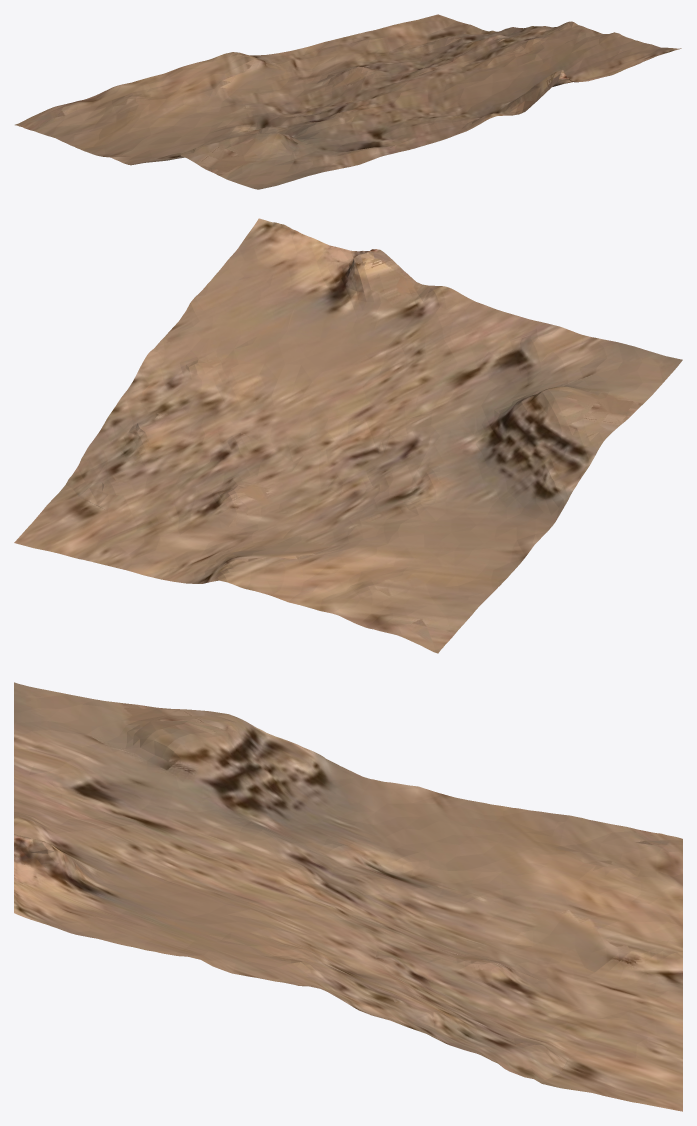
3 views of the same model, one above another, from view 1: azimuth 30°, elevation 25°; view 2: azimuth 150°, elevation 25°; view 3: azimuth 270°, elevation 25° (orthographic). The views are drawn at different scales.
Size of the model in its own units: 1.04 by 0.3592 by 1.04.
2 materials, 2 textured.
